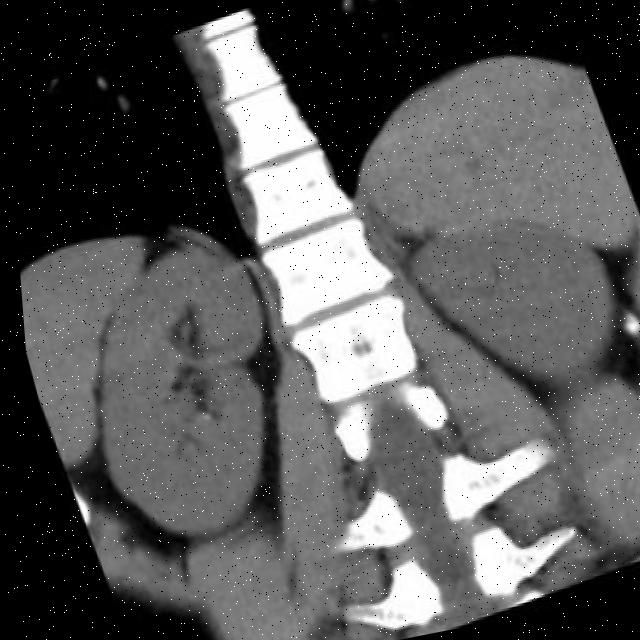Tas_Var: (190, 408, 208, 425)
